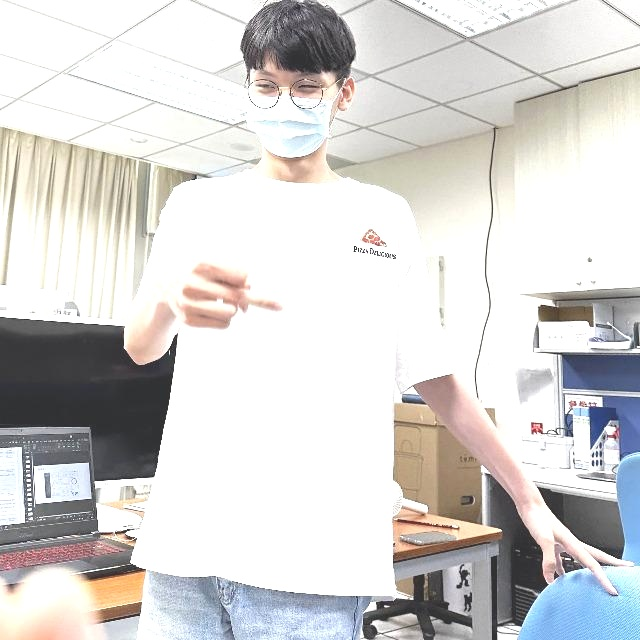Sin_Chaleco: (150, 171, 420, 590)
